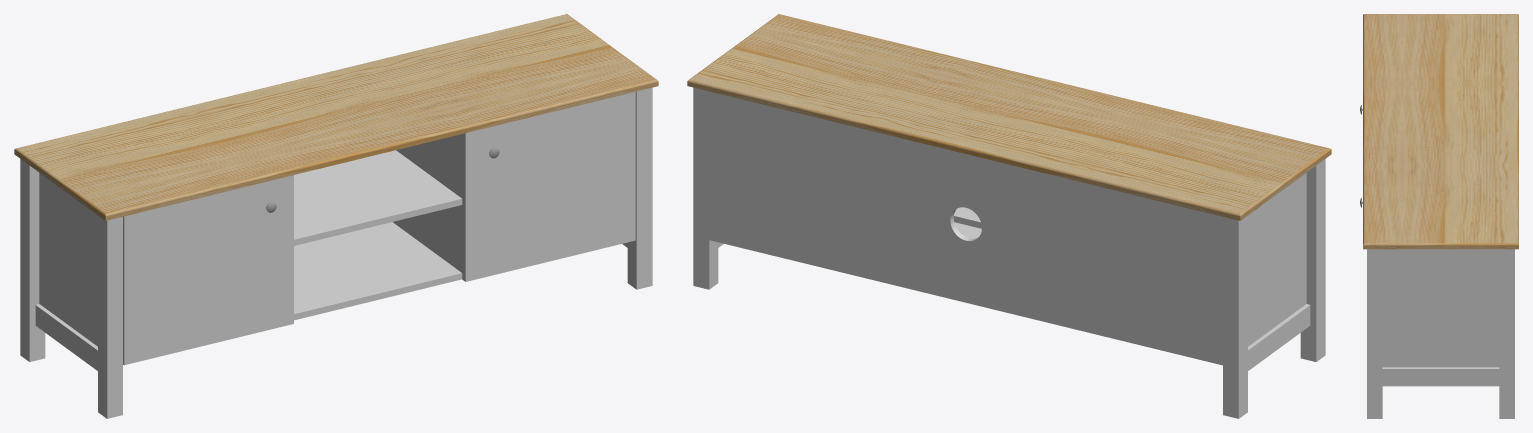
The picture shows the model from 3 angles, left to right: view 1: azimuth 30°, elevation 25°; view 2: azimuth 150°, elevation 25°; view 3: azimuth 270°, elevation 25°; orthographic projection. The views are drawn at different scales.
Visible parts, largest first — view 1: Body1, Body26, Body15, Body25, Body33, Body6, Body2, Body29, Body3, Body8, Body34; view 2: Body32, Body1, Body6, Body3, Body2, Body25, Body9, Body34; view 3: Body1, Body10, Body8, Body9, Body35.
Part boxes in pixels (x1,y1,x2,y2): Body1: (14, 14, 658, 220); Body26: (462, 91, 635, 281); Body15: (123, 175, 293, 365); Body25: (294, 222, 462, 320); Body33: (294, 150, 462, 245); Body6: (39, 173, 97, 346); Body2: (98, 216, 122, 418); Body29: (393, 134, 462, 272); Body3: (20, 159, 45, 361); Body8: (627, 87, 652, 289); Body34: (35, 304, 97, 370); Body32: (709, 91, 1222, 359); Body1: (687, 14, 1331, 220); Body6: (1248, 173, 1306, 346); Body3: (1223, 216, 1247, 418); Body2: (1300, 159, 1325, 361); Body25: (709, 222, 1222, 365); Body9: (693, 87, 718, 289); Body34: (1248, 304, 1310, 370); Body1: (1363, 14, 1518, 249); Body10: (1382, 249, 1499, 367); Body8: (1367, 249, 1382, 418); Body9: (1499, 249, 1514, 418); Body35: (1382, 367, 1499, 386).
Bounding box in the file's own units: 1.4 × 0.5 × 0.4076.
Materials: 3 (1 with a texture image).
